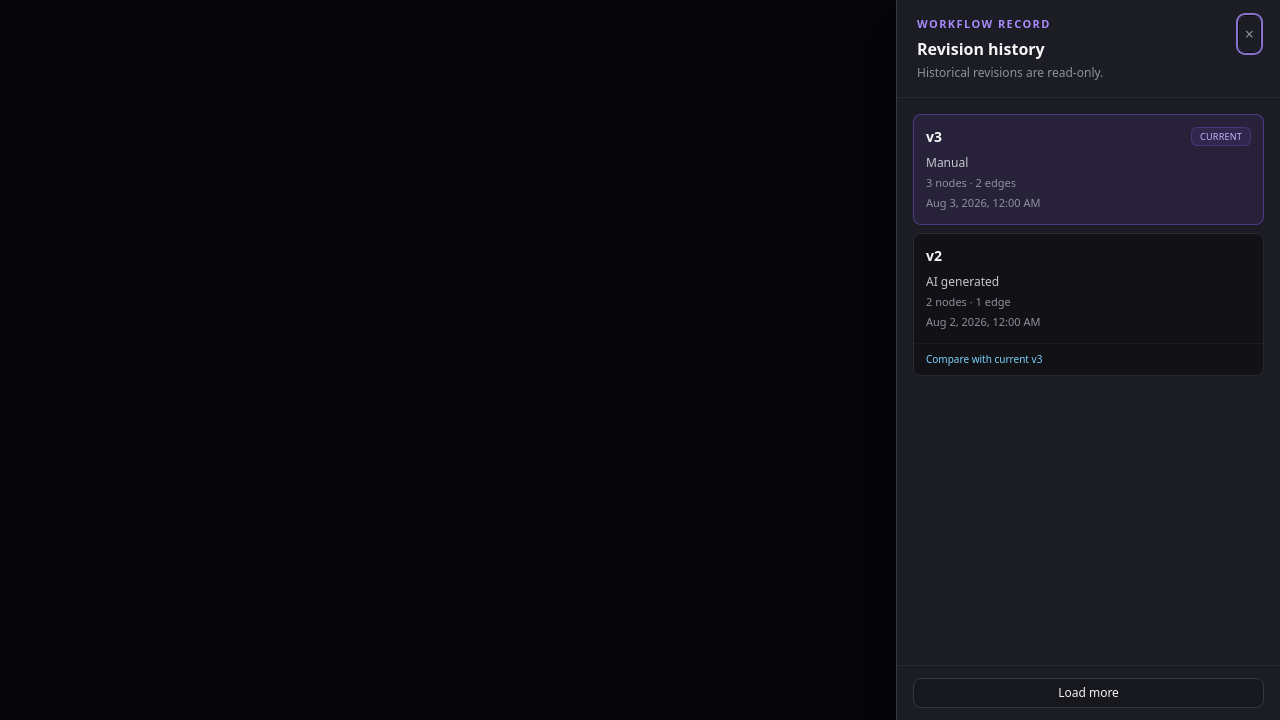
Test: RevisionHistoryPanel › opens, labels current/source metadata, and loads the next cursor page
This screenshot has width=1280, height=720.
Expected: the dialog "Revision history" is shown, [896,0,1279,719]
Expected: the text "Current" is shown, [1191,127,1251,146]
Click the button "Load more". click: point(1088, 693)
box: [913,678,1264,708]
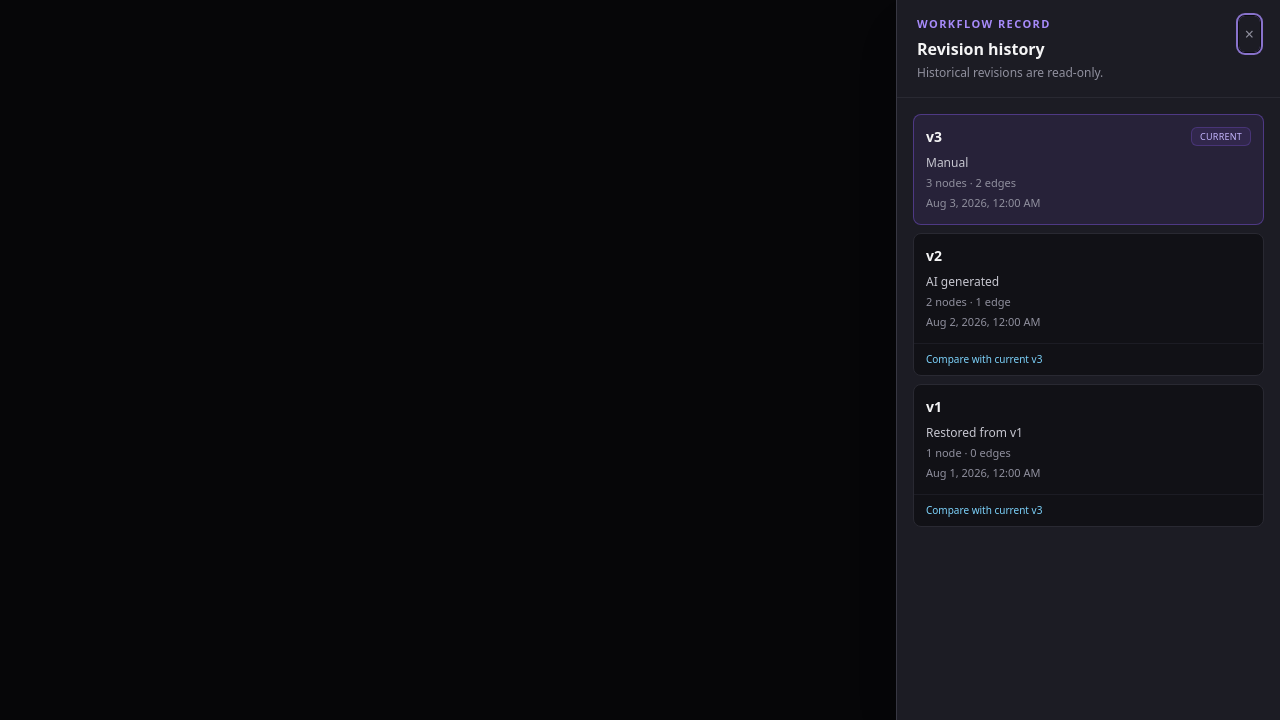
Expected: the text "Restored from v1" is shown, [926,424,1023,440]
